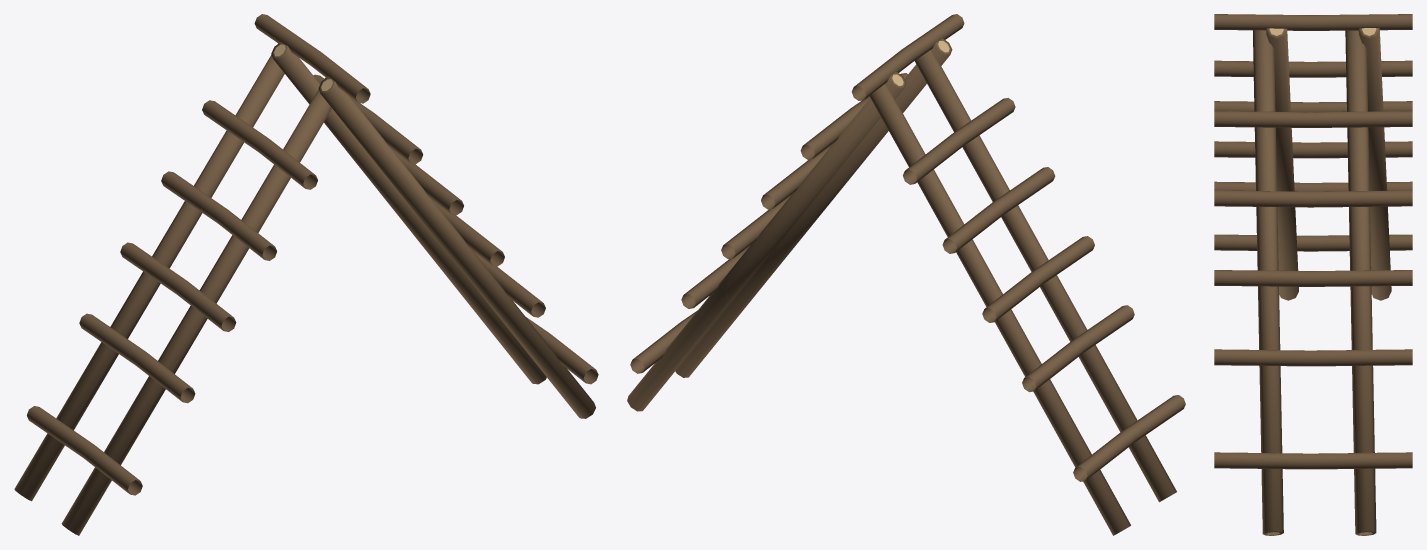
Rendered from rpgpp_ag_roof_support_01_6x5x3_roof_01b.fbx.
3 views of the same model, side by side, from view 1: azimuth 30°, elevation 25°; view 2: azimuth 150°, elevation 25°; view 3: azimuth 270°, elevation 25° (orthographic). The views are drawn at different scales.
Parts seen in each view (by area): view 1: rpgpp_ag_roof_support_01_6x5x3_roof_01b; view 2: rpgpp_ag_roof_support_01_6x5x3_roof_01b; view 3: rpgpp_ag_roof_support_01_6x5x3_roof_01b.
Part boxes in pixels (x1=…): rpgpp_ag_roof_support_01_6x5x3_roof_01b: x1=14, y1=14, x2=598, y2=535; rpgpp_ag_roof_support_01_6x5x3_roof_01b: x1=627, y1=14, x2=1185, y2=535; rpgpp_ag_roof_support_01_6x5x3_roof_01b: x1=1214, y1=14, x2=1412, y2=535.
Bounding box in the file's own units: 8.96 × 6.76 × 3.
